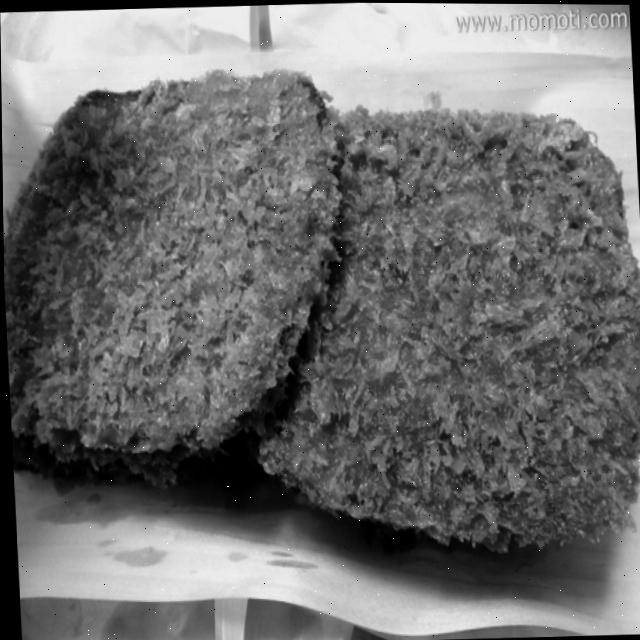炸货点心: (0, 28, 640, 603)
